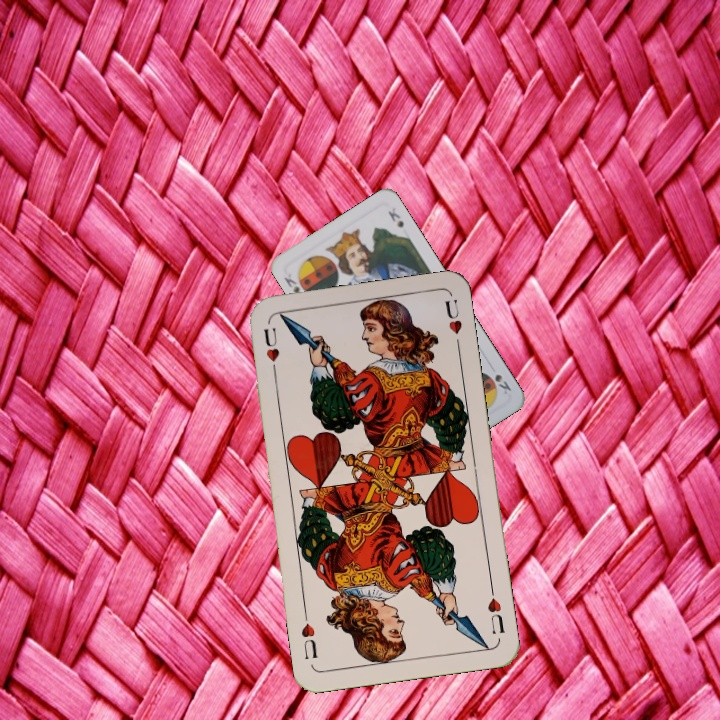HU: (483, 582, 507, 637), (259, 324, 282, 379)
SK: (491, 370, 514, 397), (280, 270, 302, 296)
